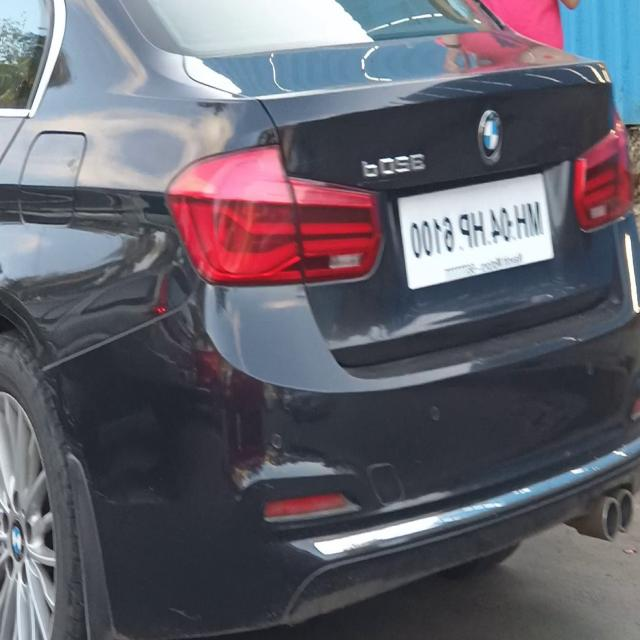license_plate: (396, 164, 556, 300)
